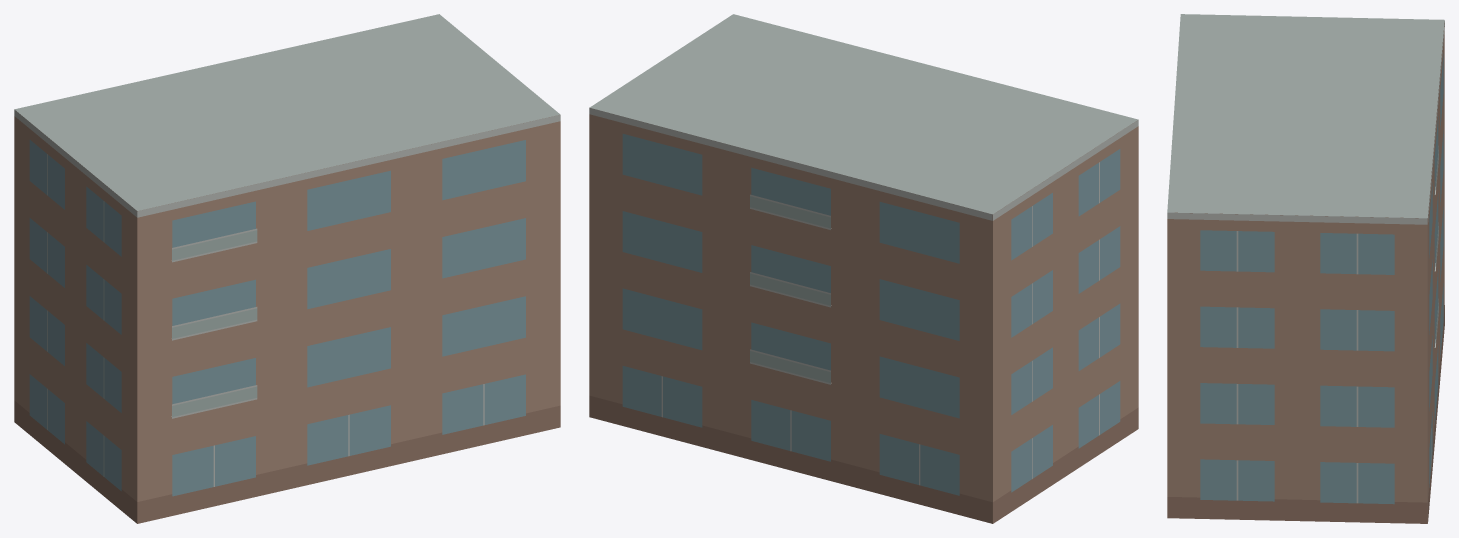
The model's file is survey-upis-32703135.glb.
The picture shows the model from 3 angles, left to right: view 1: azimuth 30°, elevation 25°; view 2: azimuth 150°, elevation 25°; view 3: azimuth 270°, elevation 25°; orthographic projection. The views are drawn at different scales.
Parts seen in each view (by area): view 1: survey-upis-32703135.tmp; view 2: survey-upis-32703135.tmp; view 3: survey-upis-32703135.tmp.
Boxes of the visible parts, bbox=[...] form: survey-upis-32703135.tmp: bbox=[14, 14, 560, 523]; survey-upis-32703135.tmp: bbox=[589, 14, 1138, 523]; survey-upis-32703135.tmp: bbox=[1167, 14, 1444, 523].
Size of the model in its own units: 16.57 by 11.55 by 9.52.
